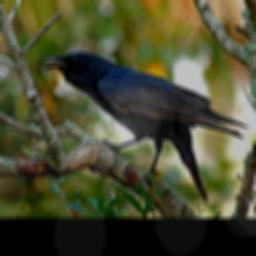Crow: (41, 51, 251, 204)
